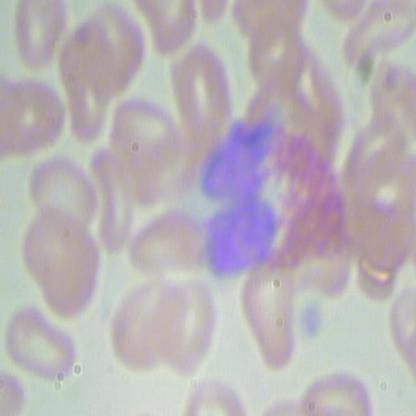Platelets: (299, 301, 325, 341)
RBC: (19, 202, 105, 322), (231, 261, 306, 371), (150, 277, 225, 376), (104, 276, 179, 374), (354, 145, 415, 263), (169, 40, 236, 136), (3, 307, 77, 392), (85, 3, 149, 98), (25, 151, 99, 231), (126, 197, 203, 273), (61, 36, 111, 151), (110, 90, 181, 166), (2, 76, 69, 155), (90, 146, 134, 258), (249, 13, 306, 87), (297, 364, 375, 415), (14, 1, 68, 68)
WBC: (200, 111, 348, 285)
